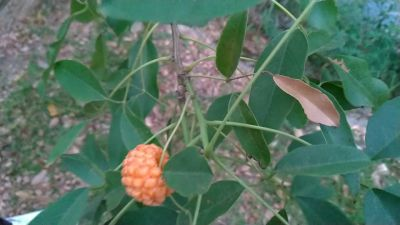eggs: (122, 142, 175, 204)
